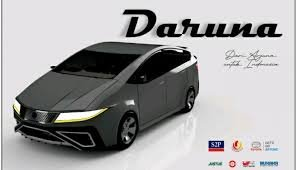mobil: (7, 39, 202, 154)
